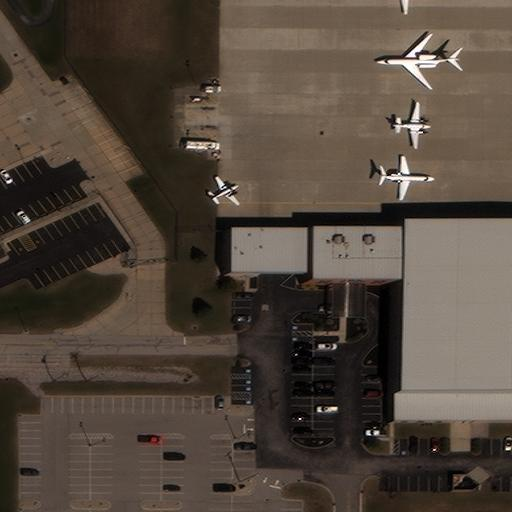Medium Civil Transport: (376, 32, 460, 90), (379, 156, 435, 199), (392, 102, 431, 148)
Small Civil Transport: (210, 175, 239, 203)
